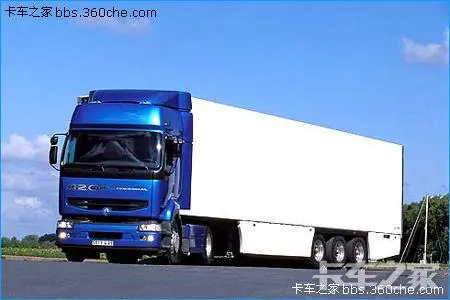bigtruck: (47, 78, 413, 277)
